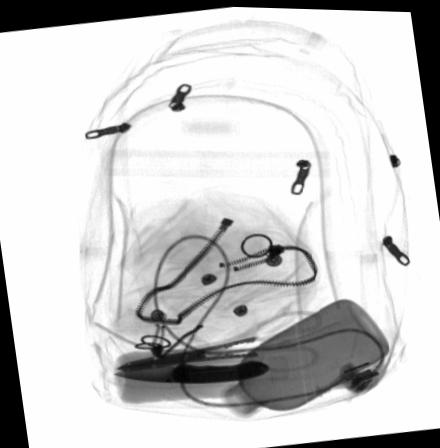Knife: (113, 358, 270, 383)
Scissors: (114, 307, 321, 371)
